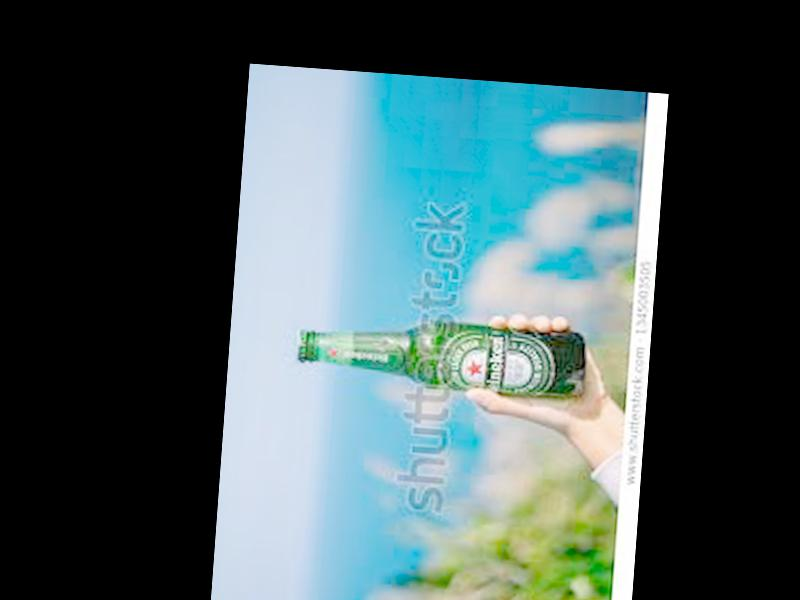Beer: (294, 311, 589, 401)
